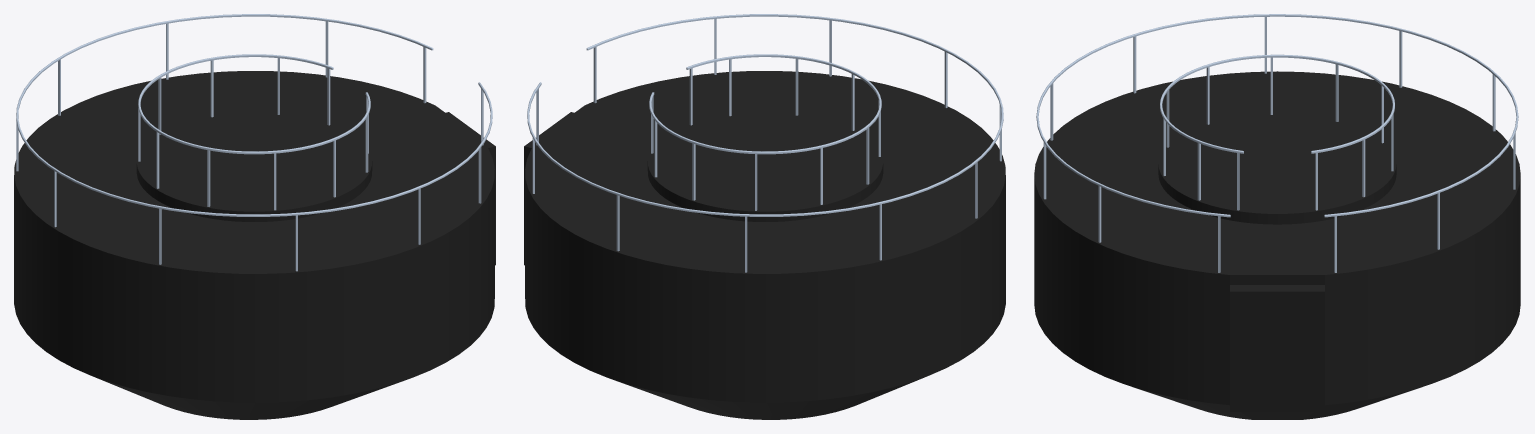
Rendered from ARRIVAL.glb.
3 views of the same model, side by side, from view 1: azimuth 30°, elevation 25°; view 2: azimuth 150°, elevation 25°; view 3: azimuth 270°, elevation 25° (orthographic).
Parts seen in each view (by area): view 1: ARRIVAL; view 2: ARRIVAL; view 3: ARRIVAL.
Part boxes in pixels (x1=…): ARRIVAL: x1=14, y1=14, x2=495, y2=419; ARRIVAL: x1=524, y1=14, x2=1005, y2=419; ARRIVAL: x1=1034, y1=14, x2=1520, y2=419.
Bounding box in the file's own units: 7.76 × 4.58 × 7.58.
